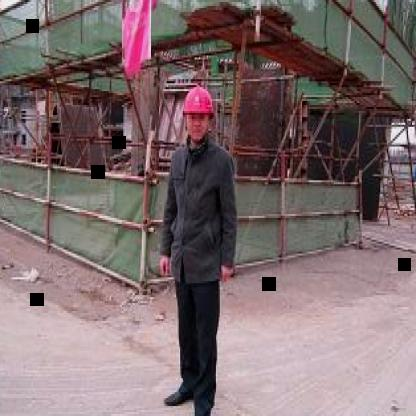helmet: (180, 81, 218, 141)
